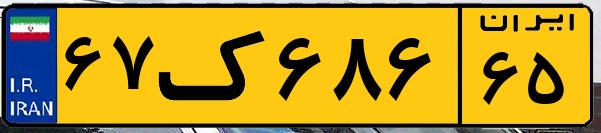5: (525, 38, 570, 115)
6: (270, 28, 330, 110), (385, 28, 445, 110), (57, 26, 110, 100), (475, 38, 525, 113)
7: (110, 28, 158, 98)
8: (330, 28, 385, 110)
ک: (158, 12, 270, 120)
